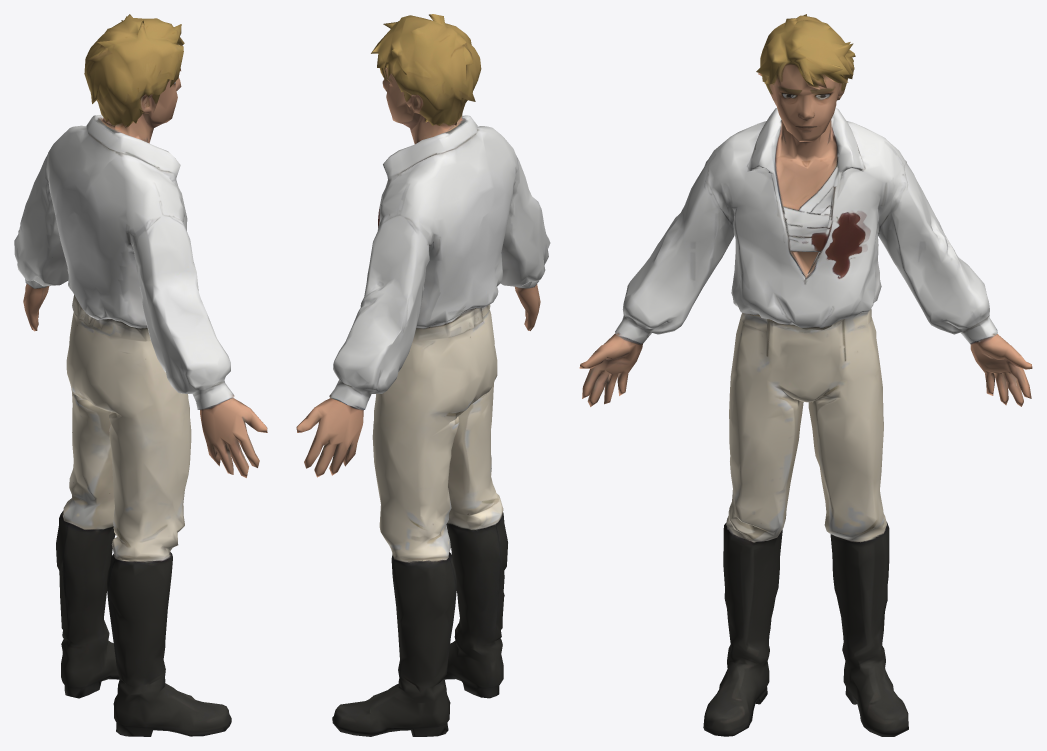
The model's file is d2e87b1f-c6cb-48ba-8691-0c5ee9938d44_model_url.glb.
3 renders of one model, left to right at view 1: azimuth 30°, elevation 25°; view 2: azimuth 150°, elevation 25°; view 3: azimuth 270°, elevation 25°, orthographic.
Parts seen in each view (by area): view 1: tripo_node_d2e87b1f-c6cb-48ba-8691-0c5ee9938d44; view 2: tripo_node_d2e87b1f-c6cb-48ba-8691-0c5ee9938d44; view 3: tripo_node_d2e87b1f-c6cb-48ba-8691-0c5ee9938d44.
Boxes of the visible parts, <box> form: tripo_node_d2e87b1f-c6cb-48ba-8691-0c5ee9938d44: <box>14,14,267,736</box>; tripo_node_d2e87b1f-c6cb-48ba-8691-0c5ee9938d44: <box>296,14,550,736</box>; tripo_node_d2e87b1f-c6cb-48ba-8691-0c5ee9938d44: <box>579,14,1032,736</box>.
Bounding box in the file's own units: 0.1714 × 1 × 0.5917.
1 material, 1 textured.
